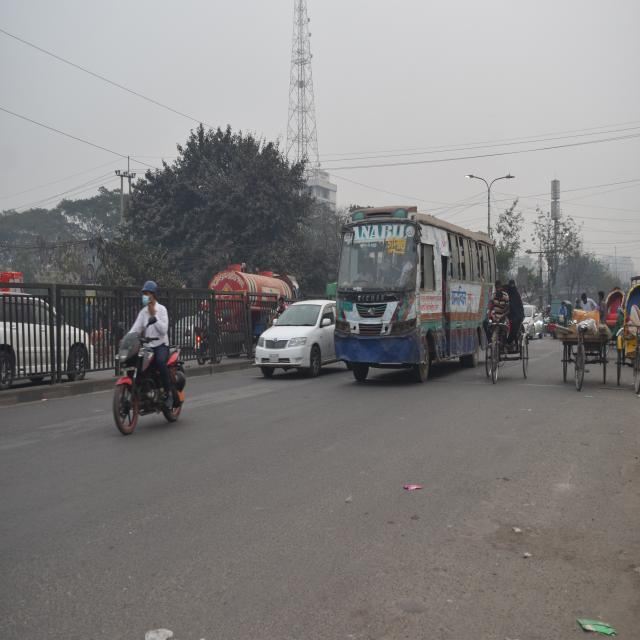bus: (338, 207, 497, 372)
car: (0, 294, 95, 397), (261, 292, 334, 384), (524, 304, 541, 339)
motorbike: (106, 335, 181, 440)
